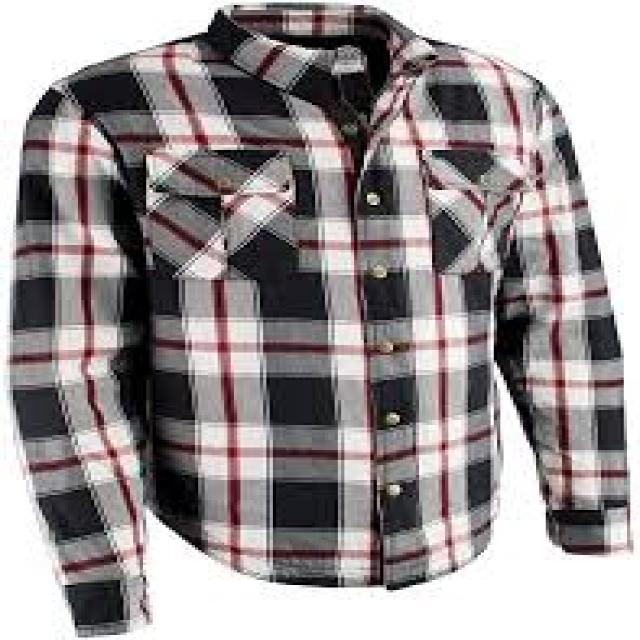plaid: (20, 5, 637, 633)
